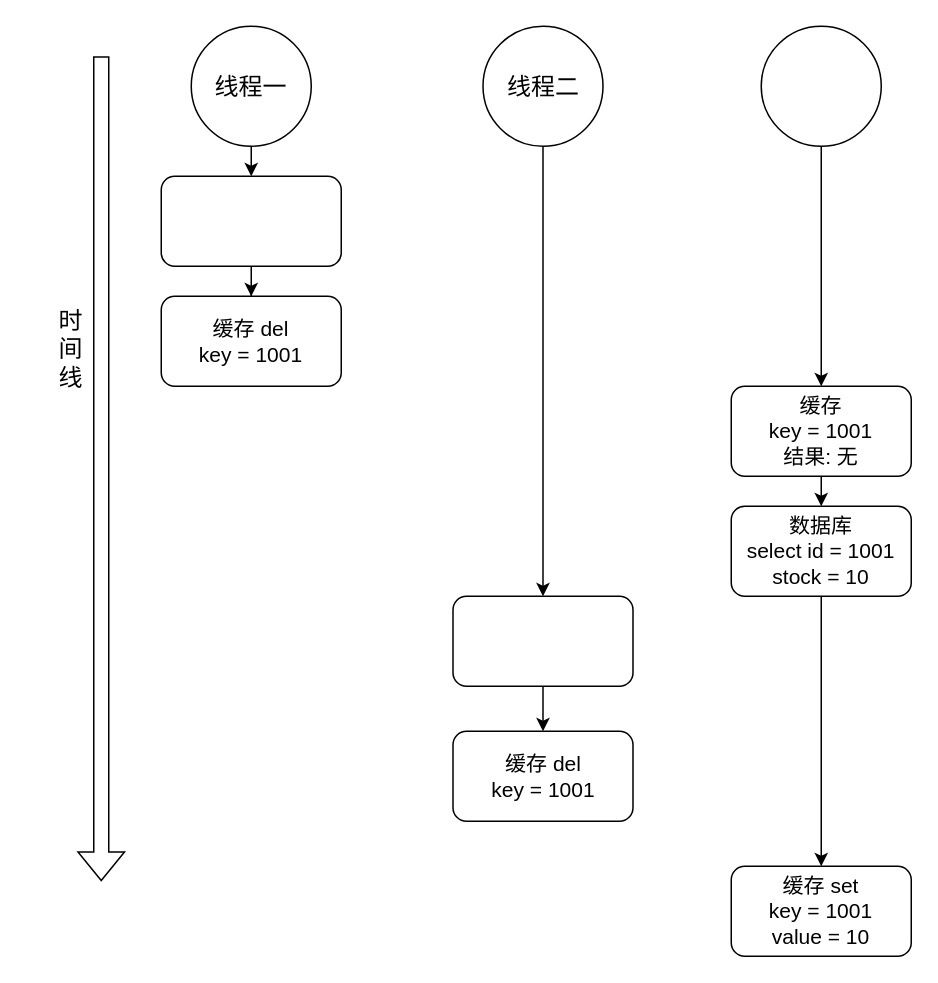
Image size: 938x983. Some labels were removed from this diagram. The shapes that lost their labels are listed below. From the top down, each one's box as (x1, y1, x2, y2) in pixels, then its label:
(760, 25, 881, 146): 线程三
(160, 175, 341, 266): 数据库 update id = 1001 stock = 10
(452, 595, 633, 686): 数据库 update id = 1001 stock = 6
